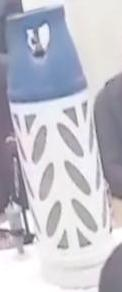cylinder: (1, 0, 122, 292)
